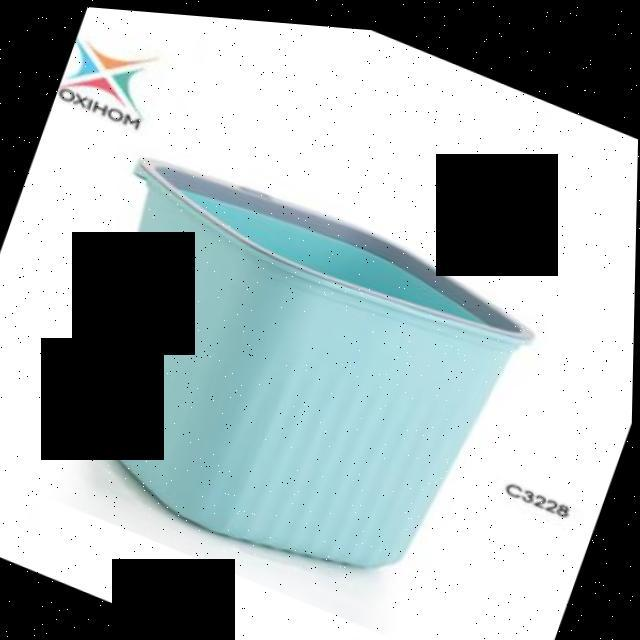bin: (18, 120, 568, 640)
